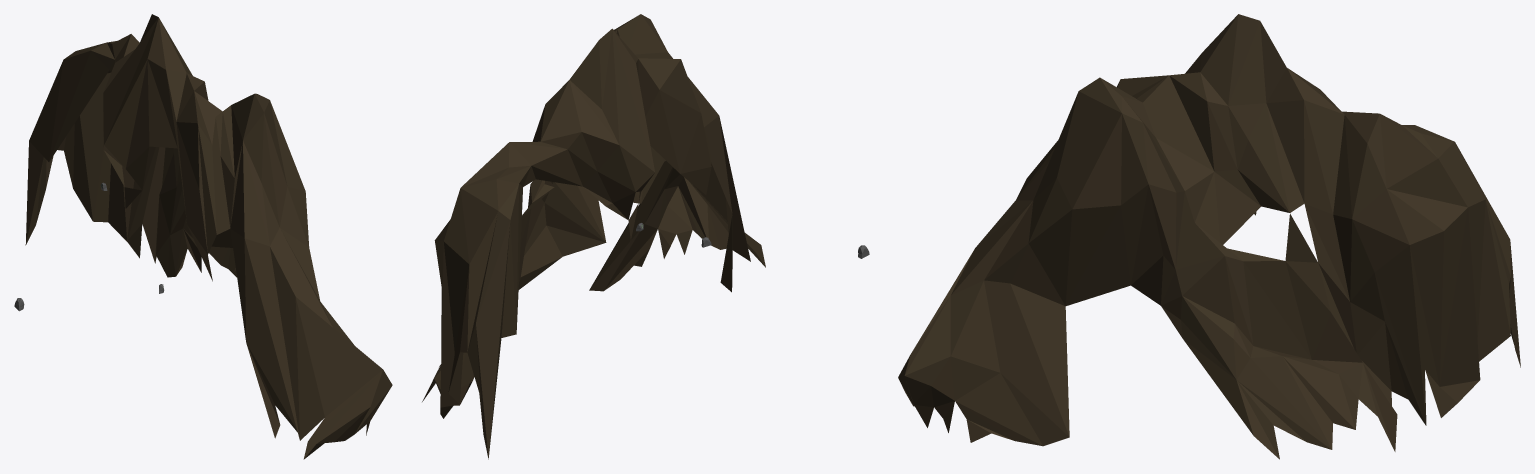
File: 3tombstones.fbx
3 renders of one model, left to right at view 1: azimuth 30°, elevation 25°; view 2: azimuth 150°, elevation 25°; view 3: azimuth 270°, elevation 25°, orthographic. The views are drawn at different scales.
Visible parts, largest first — view 1: reference; view 2: reference; view 3: reference.
Boxes of the visible parts, x1,y1,x2,y2 form: reference: (25,14,392,459); reference: (422,14,765,459); reference: (898,14,1520,459).
Size of the model in its own units: 195 by 193 by 287.
